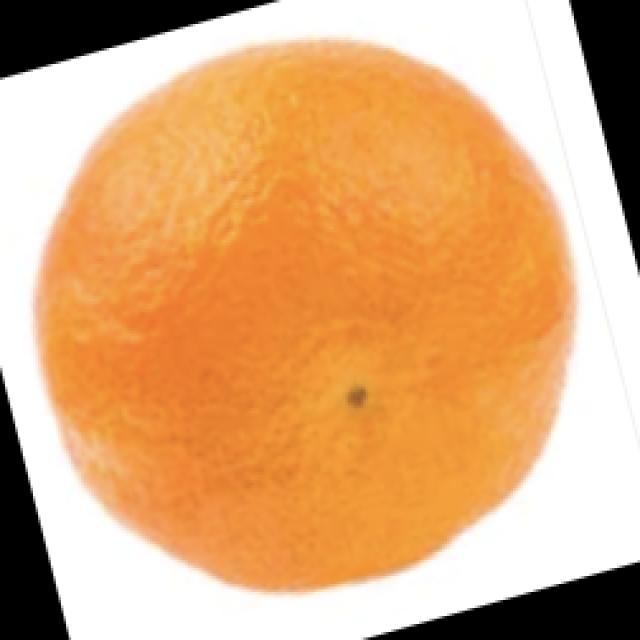matang: (38, 42, 573, 590)
